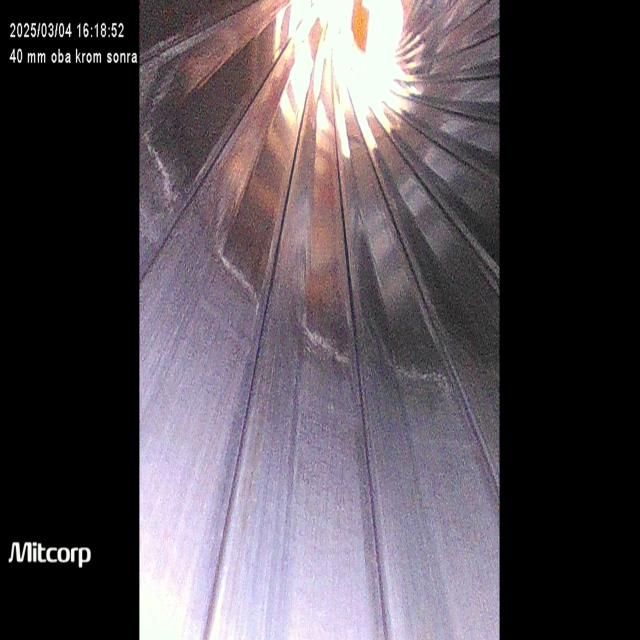hata_8.2: (159, 94, 493, 392)
